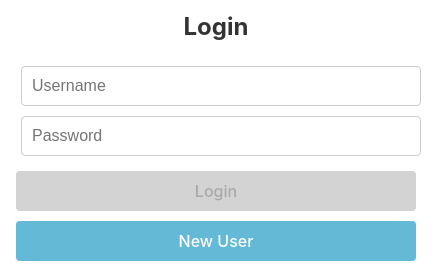
Scenario: Login button should be enabled only after filling all the fields
Expected: the button with test id "login-id" is disabled, [16, 171, 416, 211]
Type "testUser" into the field with placeholder "Username". click: coordinates (221, 86)
box: [21, 66, 421, 106]
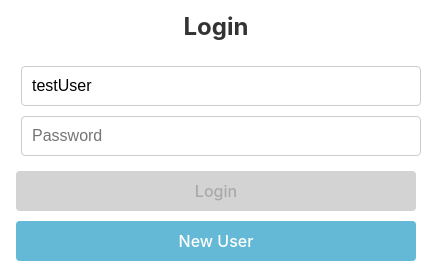
Type "password123" into the password field with placeholder "Password". click: coordinates (221, 136)
box: [21, 116, 421, 156]
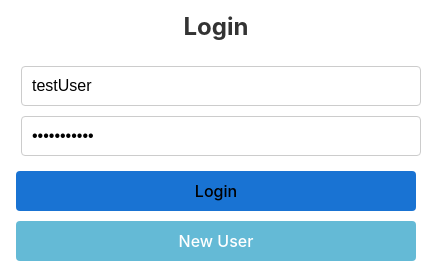
Result: the button with test id "login-id" is enabled at [16, 171, 416, 211]
